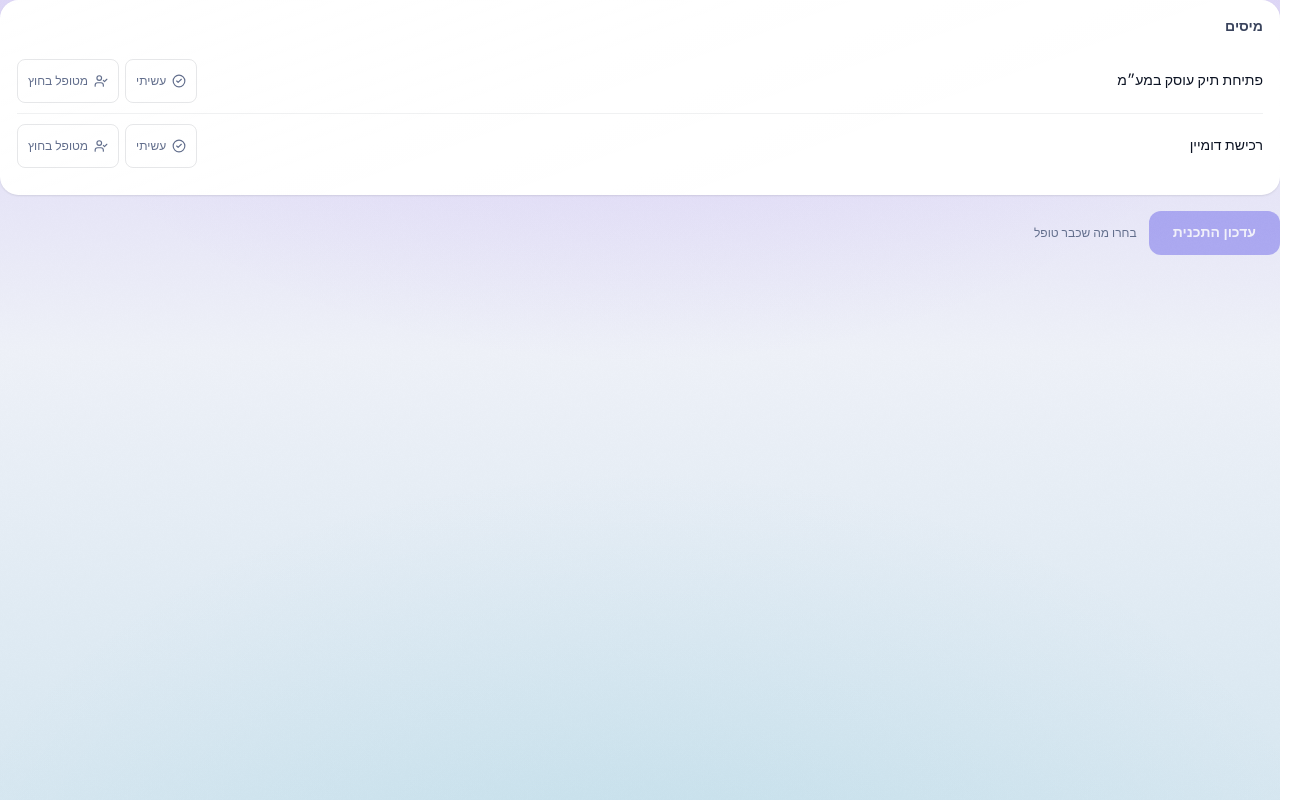
Test: the artefact field › goes away when the row is cleared
The image size is (1292, 800).
Click the button "עשיתי" in the row of "פתיחת תיק עוסק במע״מ" at [161, 81], box [125,59,197,103]
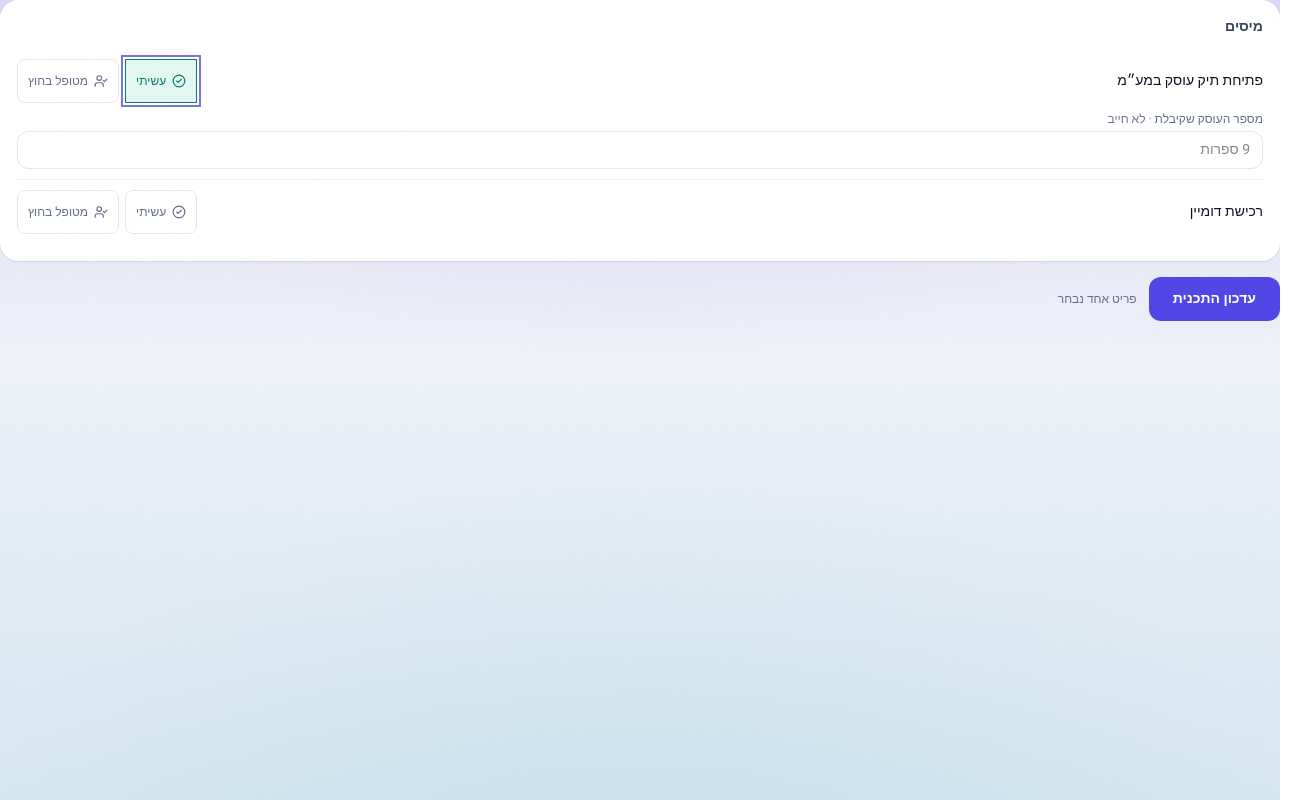
Expected: the field labelled "מספר העוסק שקיבלת · לא חייב" is shown, [17,131,1263,169]
# Clicking the same answer again clears the row.
Click the button "עשיתי" in the row of "פתיחת תיק עוסק במע״מ" at [161, 81], box [125,59,197,103]
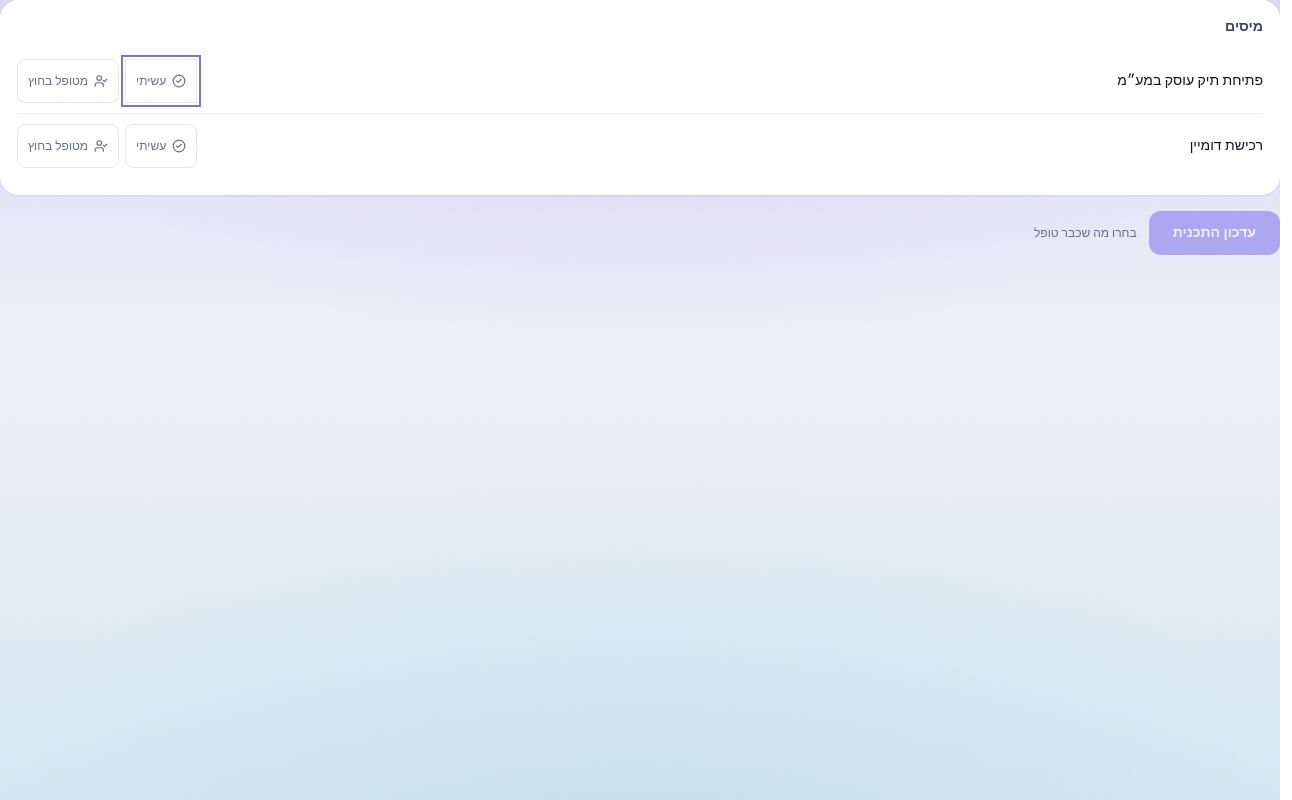
Expected: the field labelled "מספר העוסק" is gone
